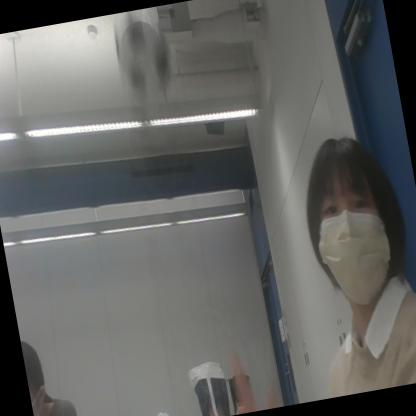ball: (112, 15, 178, 97)
